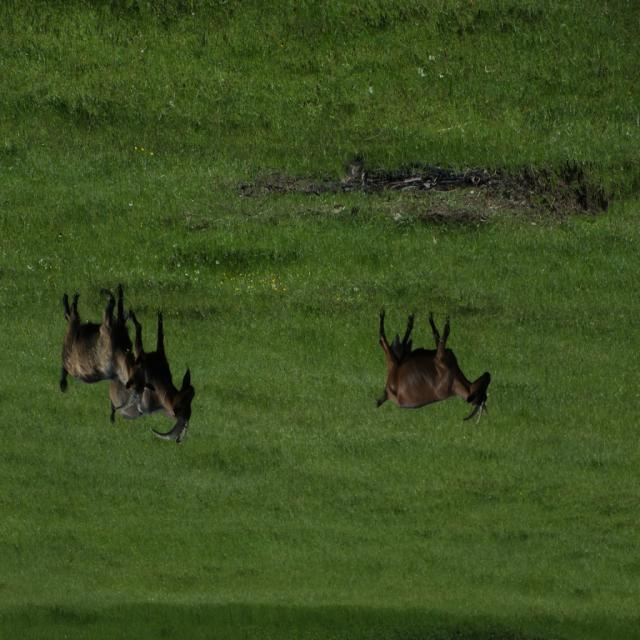Goat: (376, 309, 492, 426), (60, 285, 157, 410), (110, 309, 196, 446)
